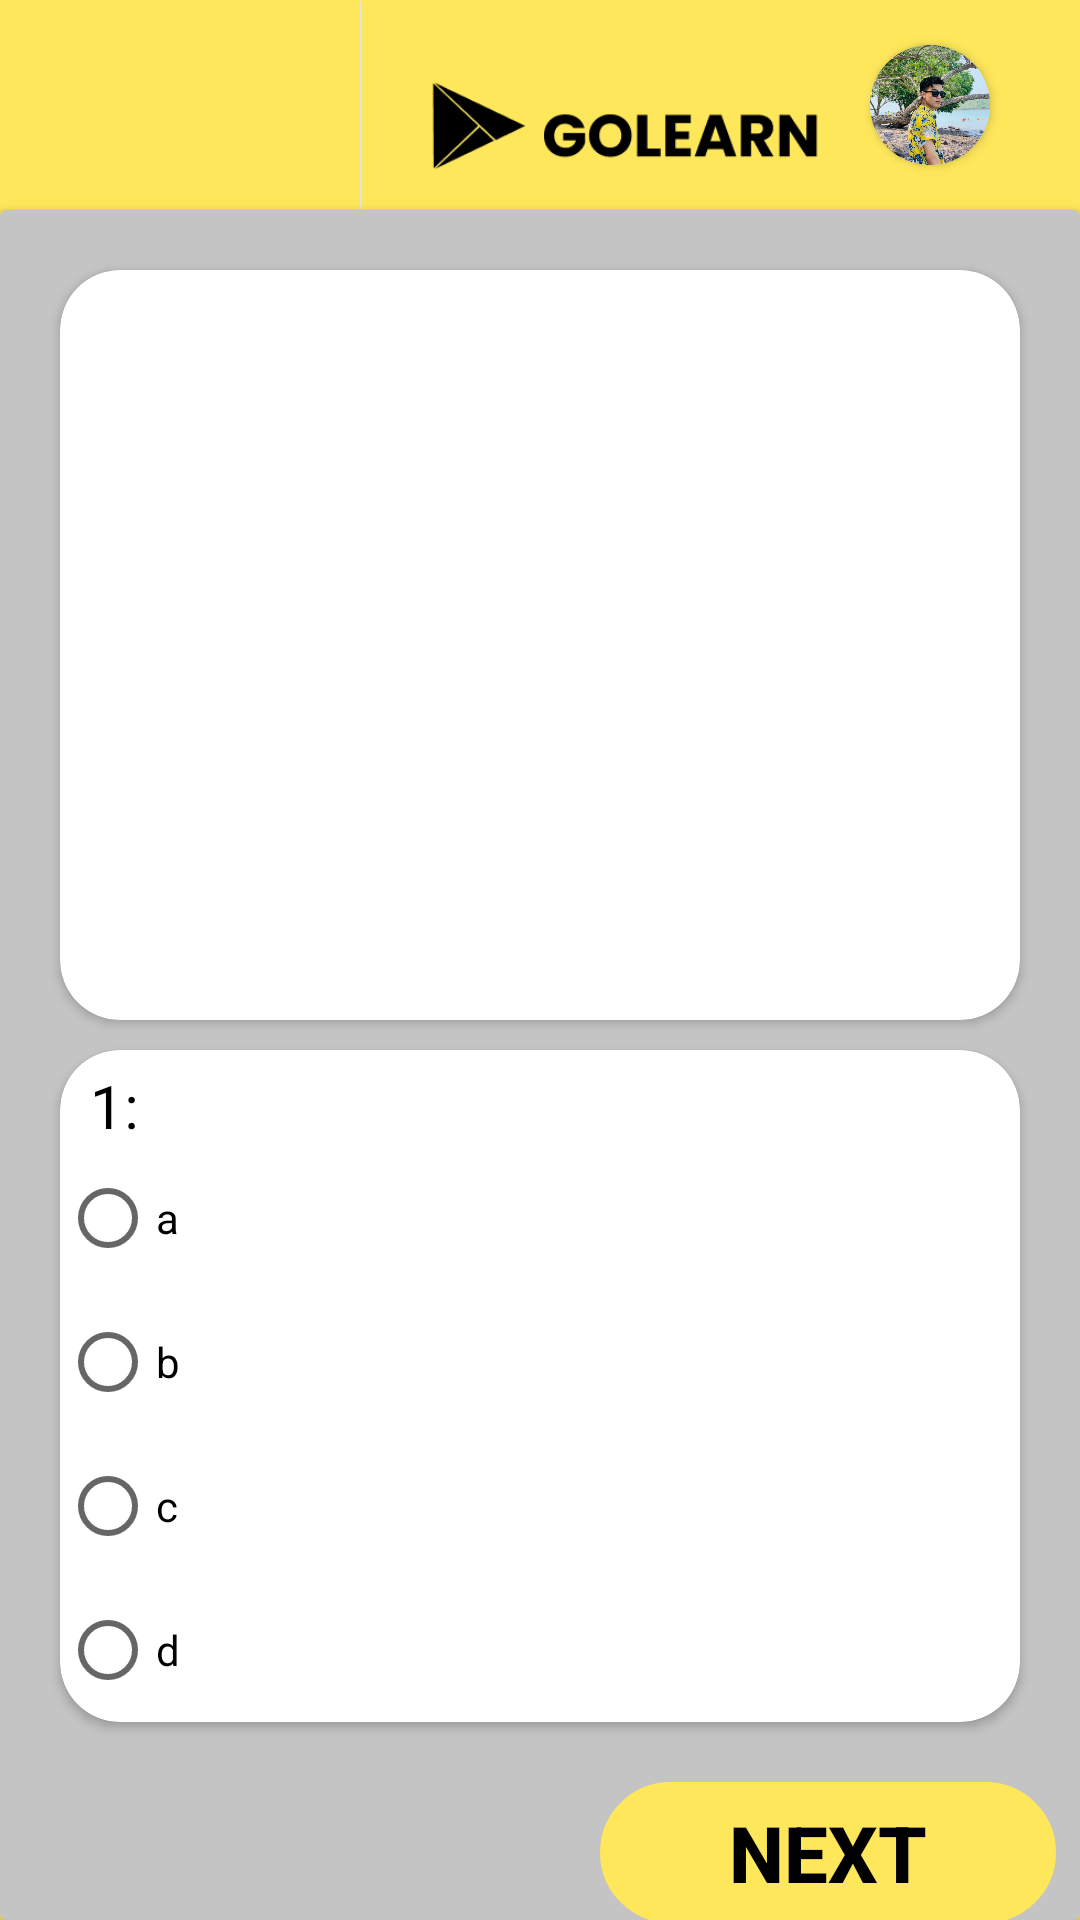

Icon click points for this 1080w x 1920h phone screenshot, format (x,y):
avt: (930,105)
